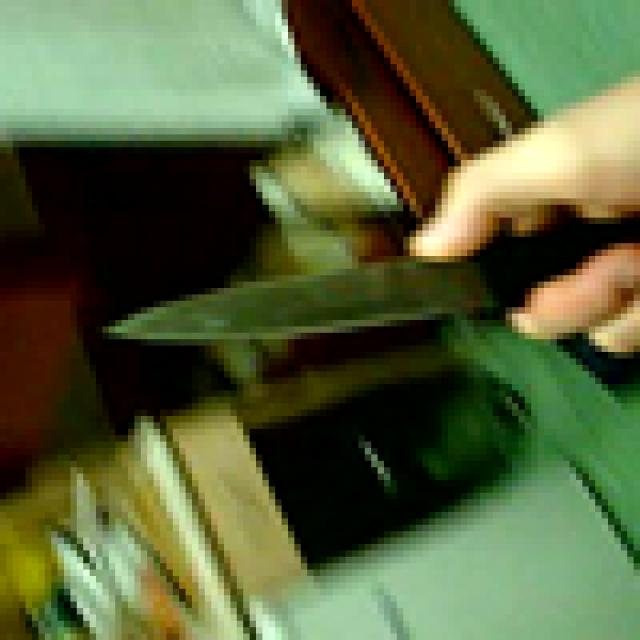weapon: (115, 211, 640, 365)
